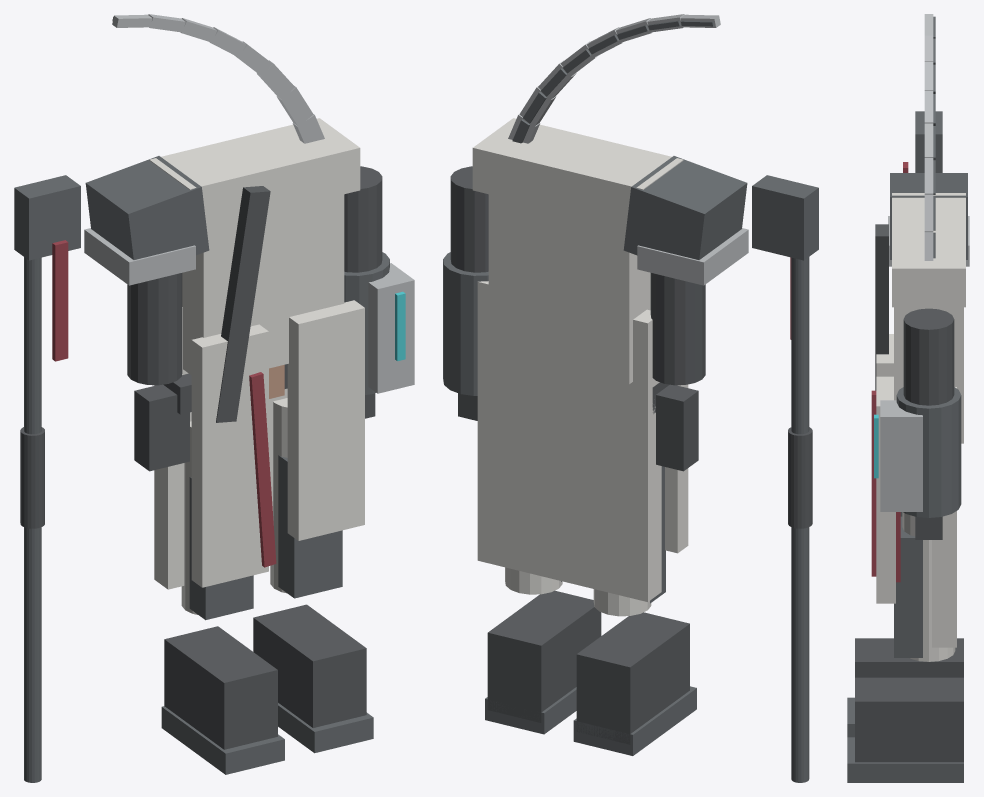
The model's file is ain_outfit_10_Hwaseol_v01.glb.
The picture shows the model from 3 angles, left to right: view 1: azimuth 30°, elevation 25°; view 2: azimuth 150°, elevation 25°; view 3: azimuth 270°, elevation 25°; orthographic projection. The views are drawn at different scales.
Parts seen in each view (by area): view 1: coat_front_R, coat_front_L, torso_shell, shoulder_yoke, boot_L, boot_R, left_shoulder_plate, scythe_shaft_9, asym_harness_10, sleeve_L, scythe_head_base_9, right_gauntlet_spine (+17 smaller); view 2: coat_back, torso_shell, shoulder_yoke, boot_L, boot_R, left_shoulder_plate, scythe_shaft_9, sleeve_L, scythe_head_base_9, right_gauntlet, sleeve_R, pouch_L (+7 smaller); view 3: boot_R, shoulder_yoke, right_gauntlet, sleeve_R, right_gauntlet_spine, shin_plate_R, coat_back, boot_L, coat_front_R, boot_sole_R, torso_shell, asym_harness_10 (+16 smaller).
Boxes of the visible parts, left/top/right/bottom form: coat_front_R: left=287, top=300, right=364, bottom=540; coat_front_L: left=191, top=324, right=268, bottom=587; torso_shell: left=182, top=194, right=344, bottom=375; shoulder_yoke: left=149, top=118, right=360, bottom=227; boot_L: left=164, top=626, right=277, bottom=749; boot_R: left=253, top=604, right=366, bottom=727; left_shoulder_plate: left=85, top=156, right=209, bottom=259; scythe_shaft_9: left=24, top=257, right=41, bottom=782; asym_harness_10: left=216, top=186, right=270, bottom=422; sleeve_L: left=127, top=273, right=182, bottom=385; scythe_head_base_9: left=14, top=175, right=80, bottom=260; right_gauntlet_spine: left=368, top=263, right=414, bottom=393; coat_back: left=477, top=281, right=661, bottom=601; torso_shell: left=488, top=194, right=650, bottom=384; shoulder_yoke: left=472, top=118, right=683, bottom=227; boot_L: left=576, top=612, right=689, bottom=744; boot_R: left=487, top=590, right=601, bottom=722; left_shoulder_plate: left=623, top=156, right=747, bottom=259; scythe_shaft_9: left=791, top=257, right=809, bottom=782; sleeve_L: left=650, top=273, right=705, bottom=385; scythe_head_base_9: left=752, top=175, right=818, bottom=260; right_gauntlet: left=443, top=252, right=488, bottom=395; sleeve_R: left=450, top=166, right=488, bottom=272; pouch_L: left=656, top=384, right=698, bottom=471; boot_R: left=855, top=677, right=963, bottom=762; shoulder_yoke: left=892, top=193, right=965, bottom=307; right_gauntlet: left=896, top=387, right=961, bottom=517; sleeve_R: left=903, top=308, right=954, bottom=405; right_gauntlet_spine: left=880, top=400, right=922, bottom=511; shin_plate_R: left=894, top=516, right=922, bottom=657; coat_back: left=932, top=387, right=956, bottom=647; boot_L: left=855, top=638, right=963, bottom=677; coat_front_R: left=876, top=376, right=895, bottom=603; boot_sole_R: left=847, top=737, right=963, bottom=782; torso_shell: left=894, top=307, right=963, bottom=443; asym_harness_10: left=875, top=224, right=888, bottom=390.
Size of the model in its own units: 0.99 by 1.91 by 0.315.
